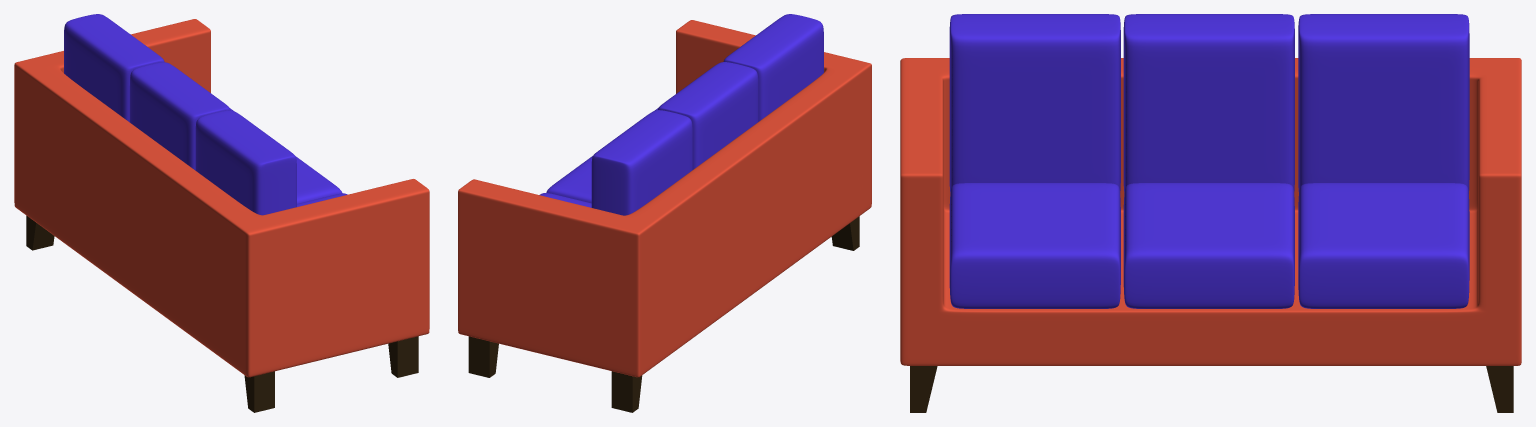
File: Couch.fbx
3 renders of one model, left to right at view 1: azimuth 30°, elevation 25°; view 2: azimuth 150°, elevation 25°; view 3: azimuth 270°, elevation 25°, orthographic. The views are drawn at different scales.
Parts seen in each view (by area): view 1: Cube, Cube.001, Cube.002, Cube.003, Cube.005, Cube.007, Cube.008, Cube.009; view 2: Cube, Cube.003, Cube.002, Cube.001, Cube.005, Cube.009, Cube.010, Cube.008; view 3: Cube, Cube.003, Cube.001, Cube.002, Cube.006, Cube.004, Cube.005, Cube.010, Cube.007.
Boxes of the visible parts, box(x1,y1,x2,y2) form: Cube: box(14, 19, 429, 377); Cube.001: box(195, 110, 296, 215); Cube.002: box(129, 62, 230, 170); Cube.003: box(64, 14, 164, 121); Cube.005: box(295, 156, 342, 203); Cube.007: box(388, 336, 418, 377); Cube.008: box(244, 371, 274, 412); Cube.009: box(26, 215, 54, 250); Cube: box(458, 20, 871, 377); Cube.003: box(591, 110, 692, 215); Cube.002: box(658, 62, 758, 169); Cube.001: box(723, 14, 823, 121); Cube.005: box(546, 156, 592, 203); Cube.009: box(611, 371, 642, 412); Cube.010: box(468, 336, 498, 377); Cube.008: box(831, 216, 859, 250); Cube: box(900, 58, 1521, 365); Cube.003: box(1298, 14, 1469, 193); Cube.001: box(949, 14, 1120, 192); Cube.002: box(1123, 14, 1294, 192); Cube.006: box(1298, 183, 1469, 308); Cube.004: box(949, 183, 1120, 308); Cube.005: box(1123, 183, 1294, 308); Cube.010: box(1486, 366, 1513, 412); Cube.007: box(910, 366, 937, 412).
Size of the model in its own units: 325 by 396 by 723.
